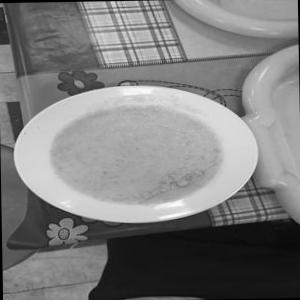porridge: (30, 92, 232, 216)
